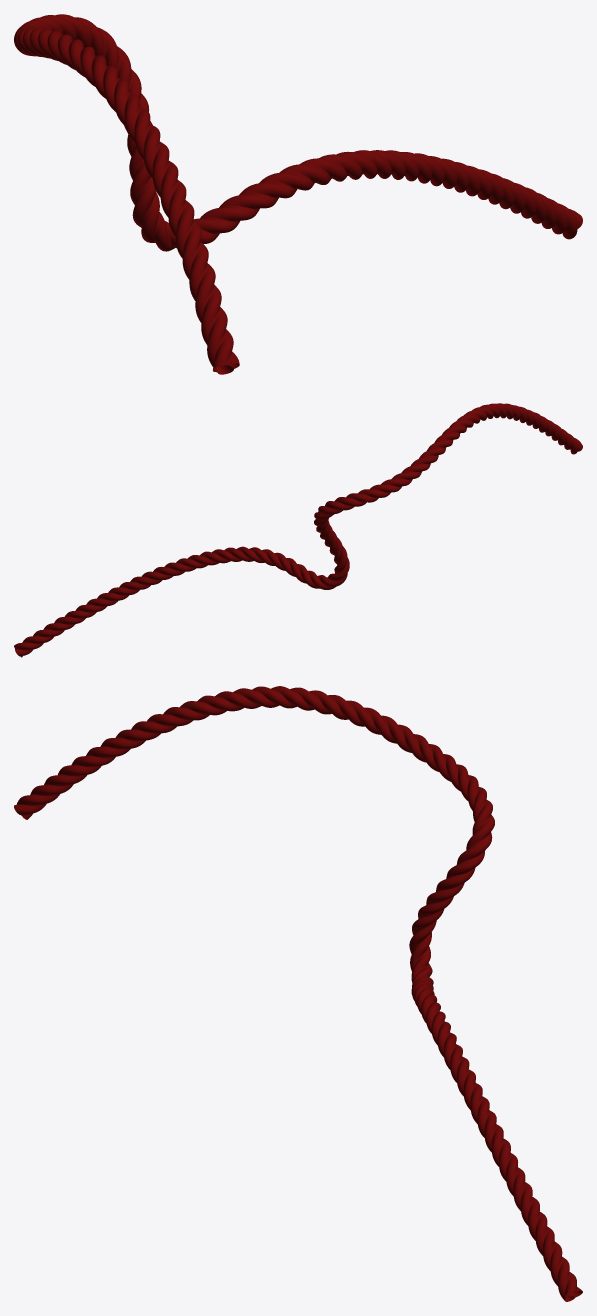
File: CordeLongue.glb
3 renders of one model, top to bottom at view 1: azimuth 30°, elevation 25°; view 2: azimuth 150°, elevation 25°; view 3: azimuth 270°, elevation 25°, orthographic. The views are drawn at different scales.
Parts seen in each view (by area): view 1: Corde3; view 2: Corde3; view 3: Corde3.
Boxes of the visible parts, x1,y1,x2,y2 form: Corde3: [14, 14, 582, 374]; Corde3: [14, 403, 582, 657]; Corde3: [14, 686, 582, 1301].
Bounding box in the file's own units: 103 × 66.12 × 92.33.
Materials: 1 (1 with a texture image).
